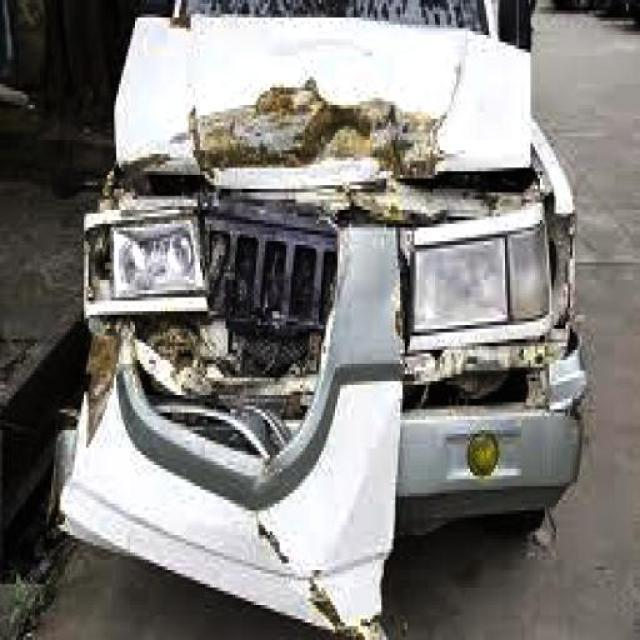Car-Damage: (49, 14, 588, 633)
